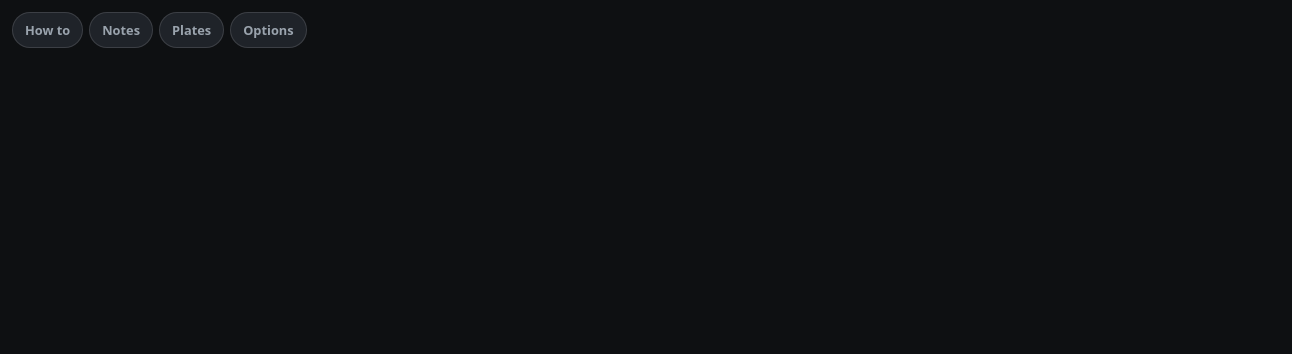
the Plates panel › draws a bar, and confirms its sum under the drawing
Click the tab with test id "plates-tab". click: (192, 30)
box: [159,12,224,48]
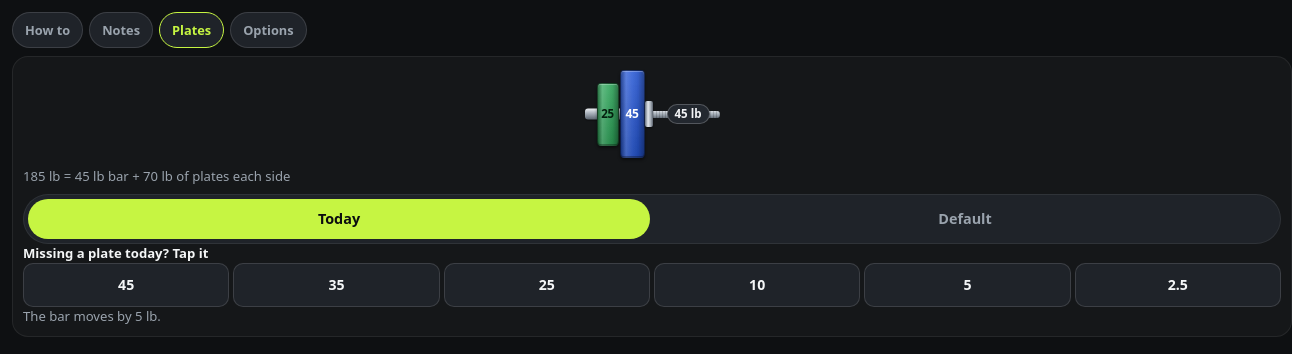
Expected: the element with test id "plate-stack" is shown, [23,70,720,185]
Expected: the text with test id "plate-caption" reads "185 lb = 45 lb bar + 70 lb of plates each side", [23,167,290,185]
